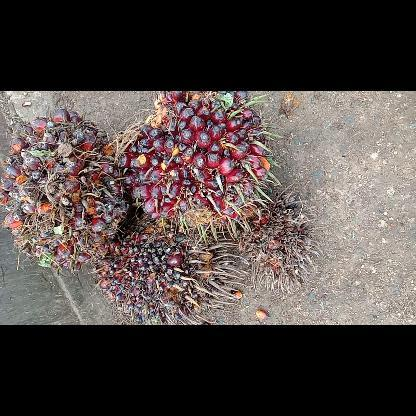TBS abnormal: (90, 208, 248, 324), (236, 185, 324, 295)
TBS masak: (116, 91, 284, 243), (0, 108, 130, 278)
